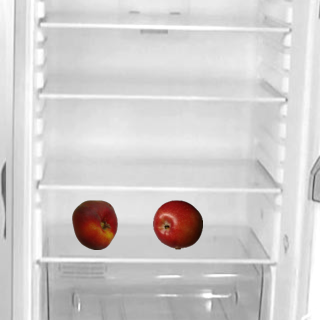Apple Braeburn: (152, 199, 202, 249)
Nectarine Flat: (69, 199, 119, 249)
